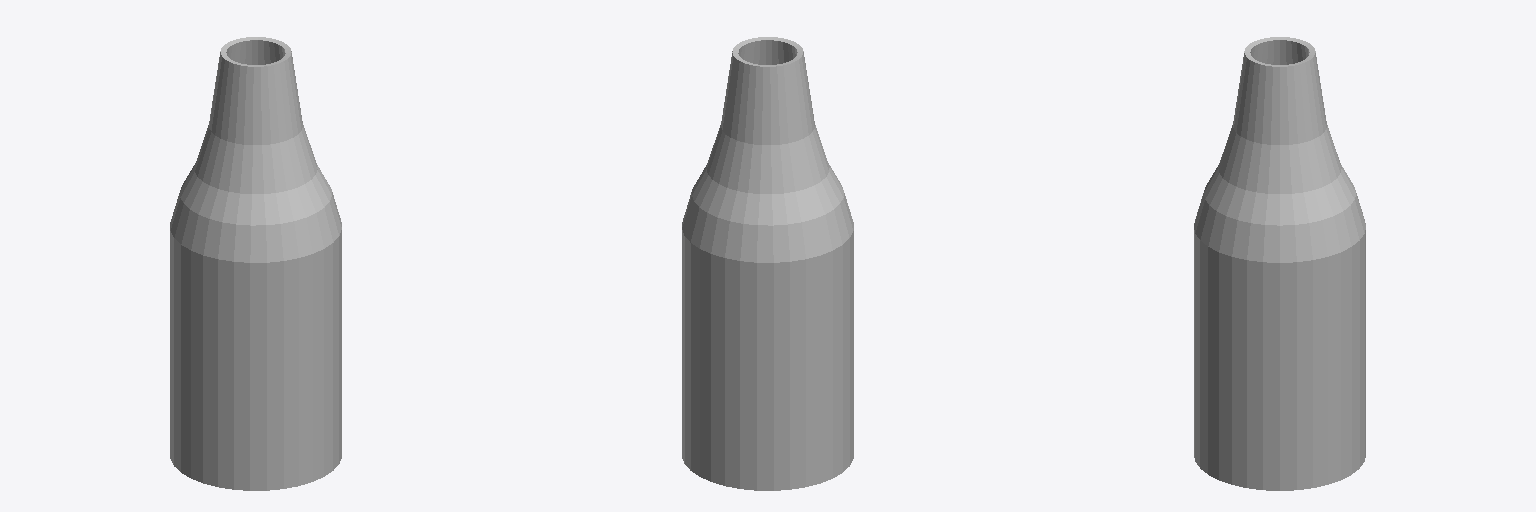
Rendered from glassBottle_smooth.obj.
3 renders of one model, left to right at view 1: azimuth 30°, elevation 25°; view 2: azimuth 150°, elevation 25°; view 3: azimuth 270°, elevation 25°, orthographic.
Visible parts, largest first — view 1: Cylinder; view 2: Cylinder; view 3: Cylinder.
Boxes of the visible parts, x1,y1,x2,y2 form: Cylinder: [170, 37, 341, 490]; Cylinder: [682, 37, 853, 490]; Cylinder: [1194, 37, 1365, 490].
Bounding box in the file's own units: 4.25 × 11.09 × 4.25.